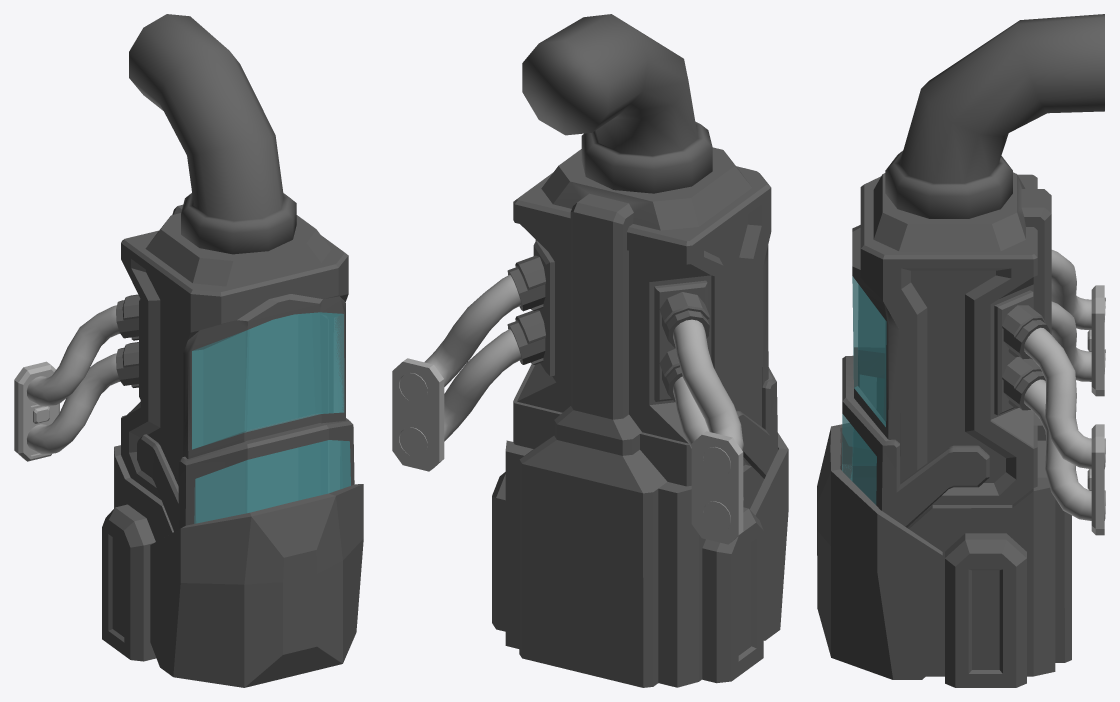
The model's file is cryo_chamber_intact.fbx.
3 views of the same model, side by side, from view 1: azimuth 30°, elevation 25°; view 2: azimuth 150°, elevation 25°; view 3: azimuth 270°, elevation 25° (orthographic). The views are drawn at different scales.
Parts seen in each view (by area): view 1: cryotube_body, lower_right_door, top_pipe, upper_glass, lower_left_door, upper_door_frame, lower_glass, right_vent, lower_glass_frame, upper_right_tube, lower_left_tube1, right_wall_mount (+2 smaller); view 2: cryotube_body, top_pipe, right_vent, right_wall_mount, left_wall_mount, lower_right_door, upper_right_tube, upper_left_tube, lower_left_tube, lower_glass_frame, left_vent, top_left_tube_connection (+5 smaller); view 3: cryotube_body, top_pipe, lower_left_door, left_vent, lower_glass_frame, upper_left_tube, upper_door_frame, upper_glass, lower_left_tube, lower_glass, upper_right_tube, lower_left_tube1 (+5 smaller).
Part boxes in pixels (box(x1,y1,x2,y2)): cryotube_body: box(114, 204, 348, 541); lower_right_door: box(150, 503, 300, 687); top_pipe: box(129, 14, 296, 254); upper_glass: box(192, 312, 344, 449); lower_left_door: box(289, 484, 363, 675); upper_door_frame: box(182, 294, 345, 458); lower_glass: box(194, 440, 350, 523); right_vent: box(102, 504, 156, 661); lower_glass_frame: box(137, 418, 354, 531); upper_right_tube: box(27, 305, 119, 406); lower_left_tube1: box(27, 353, 120, 454); right_wall_mount: box(14, 361, 59, 461); cryotube_body: box(505, 147, 771, 687); top_pipe: box(522, 14, 712, 193); right_vent: box(702, 507, 763, 683); right_wall_mount: box(691, 431, 743, 544); left_wall_mount: box(392, 358, 444, 471); lower_right_door: box(750, 433, 788, 640); upper_right_tube: box(673, 319, 743, 468); upper_left_tube: box(399, 275, 520, 399); lower_left_tube: box(399, 329, 521, 452); lower_glass_frame: box(736, 367, 777, 478); left_vent: box(492, 472, 505, 631); top_left_tube_connection: box(507, 255, 545, 311); cryotube_body: box(860, 172, 1071, 676); top_pipe: box(885, 14, 1104, 218); lower_left_door: box(817, 448, 942, 679); left_vent: box(945, 533, 1026, 687); lower_glass_frame: box(842, 355, 989, 527); upper_left_tube: box(1024, 327, 1105, 469); upper_door_frame: box(852, 225, 900, 449); upper_glass: box(852, 276, 886, 426); lower_left_tube: box(1023, 379, 1105, 520); lower_glass: box(842, 375, 876, 504); upper_right_tube: box(1051, 250, 1105, 329); lower_left_tube1: box(1051, 301, 1105, 381).
Bounding box in the file's own units: 193 × 345 × 147.
